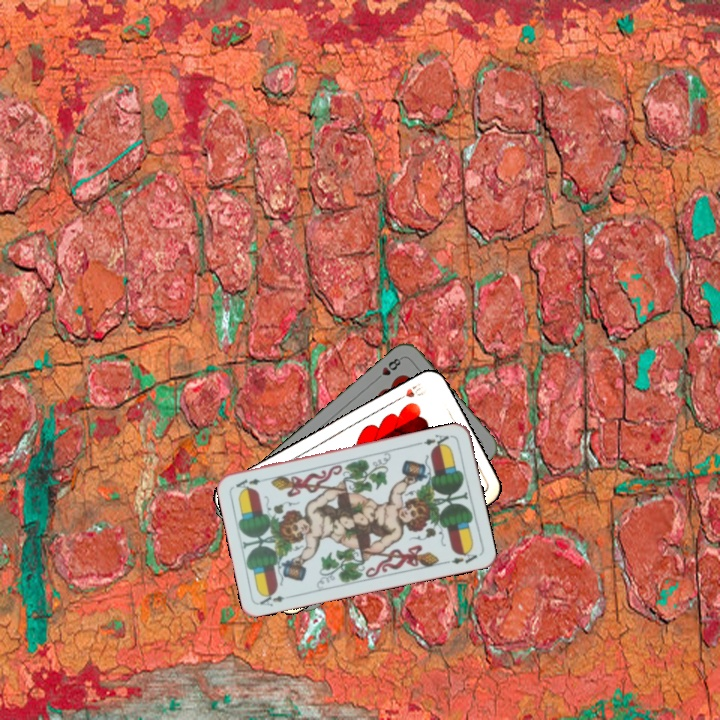EA: (414, 430, 455, 451), (256, 588, 296, 609)
H10: (391, 378, 428, 404)
H8: (371, 353, 405, 384)
